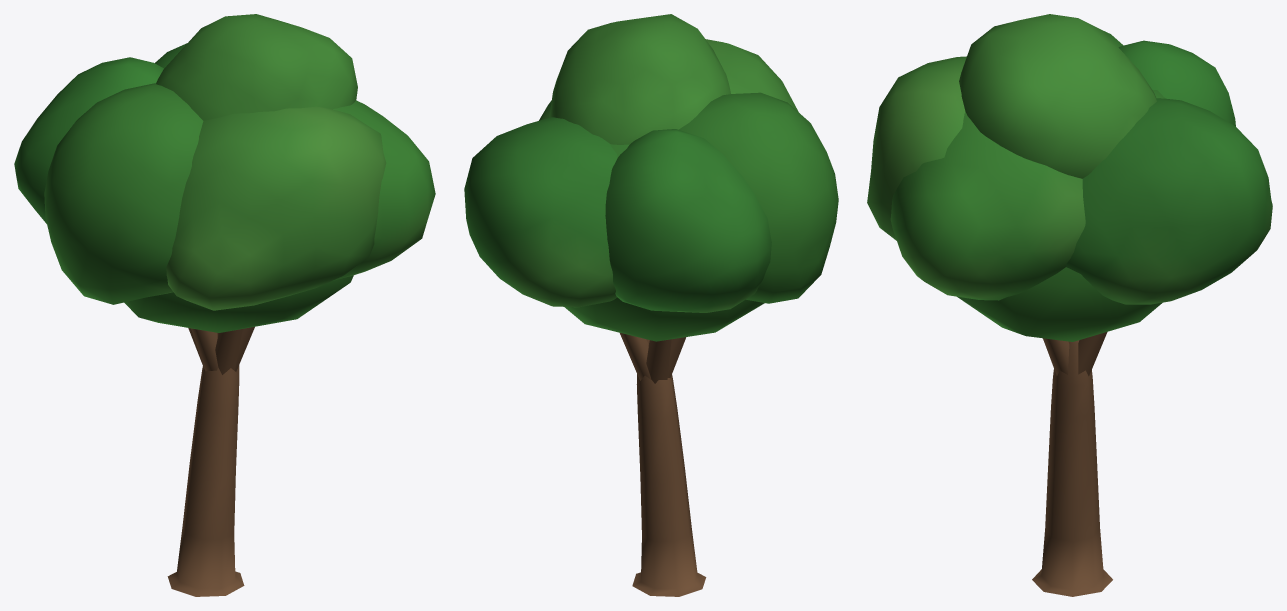
Rendered from decor_feuillu_ete_3.glb.
3 renders of one model, left to right at view 1: azimuth 30°, elevation 25°; view 2: azimuth 150°, elevation 25°; view 3: azimuth 270°, elevation 25°, orthographic. The views are drawn at different scales.
Visible parts, largest first — view 1: feuillage, tronc; view 2: feuillage, tronc; view 3: feuillage, tronc.
Part boxes in pixels (x1,y1,x2,y2): feuillage: (14,14,435,332); tronc: (167,327,254,596); feuillage: (464,14,838,341); tronc: (620,333,706,596); feuillage: (867,14,1272,341); tronc: (1032,332,1112,596).
Size of the model in its own units: 0.3863 by 0.64 by 0.4096.
